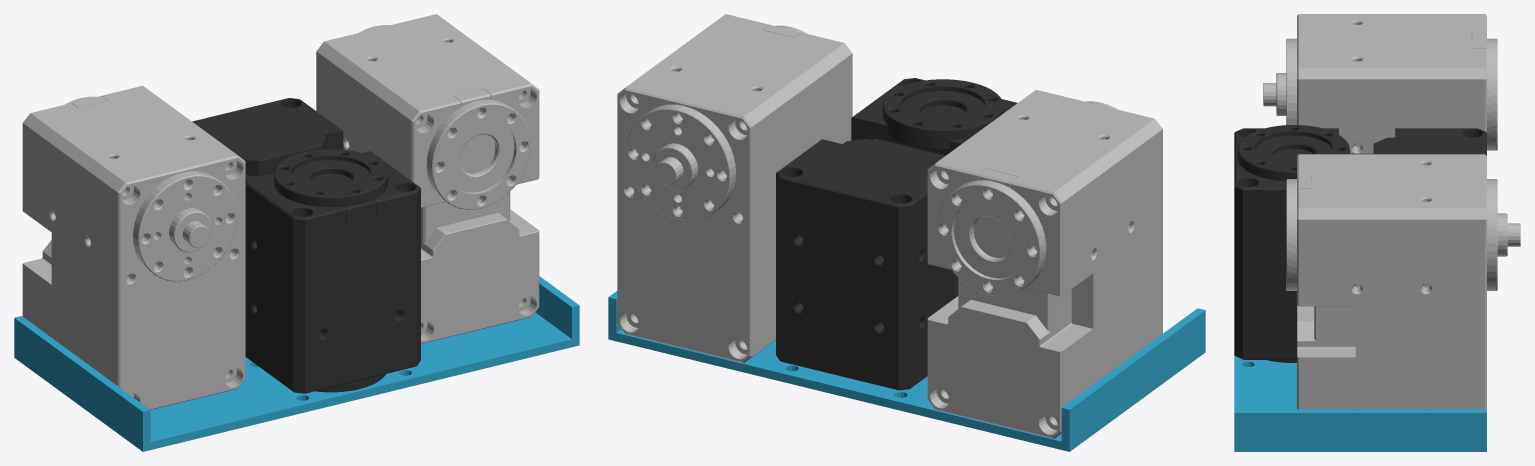
File: hand_roll.obj
The picture shows the model from 3 angles, left to right: view 1: azimuth 30°, elevation 25°; view 2: azimuth 150°, elevation 25°; view 3: azimuth 270°, elevation 25°; orthographic projection. The views are drawn at different scales.
Parts seen in each view (by area): view 1: メッシュ フィーチャ1_3, メッシュ フィーチャ1_2, メッシュ フィーチャ1_4, メッシュ フィーチャ1_1; view 2: メッシュ フィーチャ1_3, メッシュ フィーチャ1_2, メッシュ フィーチャ1_4, メッシュ フィーチャ1_1; view 3: メッシュ フィーチャ1_2, メッシュ フィーチャ1_3, メッシュ フィーチャ1_4, メッシュ フィーチャ1_1.
Boxes of the visible parts, left/top/right/bottom form: メッシュ フィーチャ1_3: left=22, top=85, right=245, bottom=409; メッシュ フィーチャ1_2: left=316, top=14, right=539, bottom=343; メッシュ フィーチャ1_4: left=192, top=98, right=420, bottom=393; メッシュ フィーチャ1_1: left=14, top=276, right=579, bottom=451; メッシュ フィーチャ1_3: left=927, top=89, right=1162, bottom=438; メッシュ フィーチャ1_2: left=617, top=14, right=852, bottom=362; メッシュ フィーチャ1_4: left=776, top=78, right=1017, bottom=390; メッシュ フィーチャ1_1: left=608, top=291, right=1205, bottom=451; メッシュ フィーチャ1_2: left=1286, top=154, right=1520, bottom=409; メッシュ フィーチャ1_3: left=1263, top=14, right=1497, bottom=153; メッシュ フィーチャ1_4: left=1234, top=125, right=1486, bottom=362; メッシュ フィーチャ1_1: left=1234, top=355, right=1486, bottom=451.
Bounding box in the file's own units: 114 × 63.8 × 66.3.
